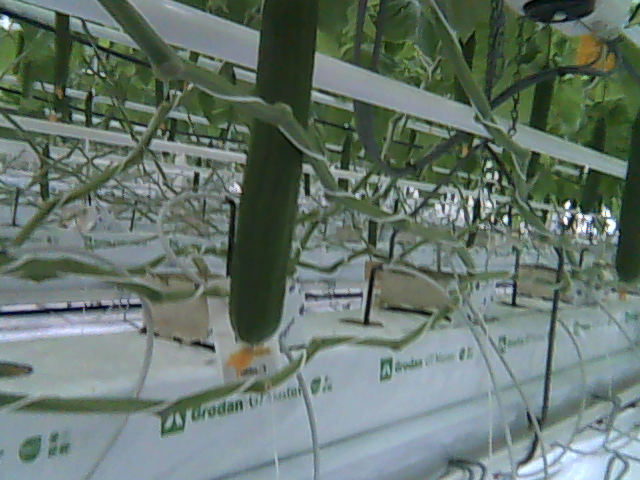concombre: (224, 1, 322, 375)
